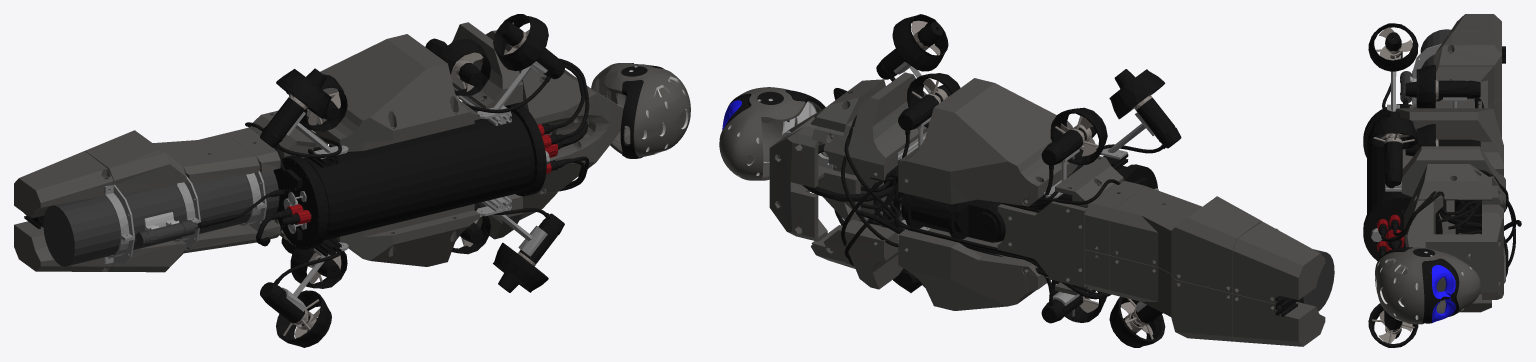
File: O2_body_new_head.obj
The picture shows the model from 3 angles, left to right: view 1: azimuth 30°, elevation 25°; view 2: azimuth 150°, elevation 25°; view 3: azimuth 270°, elevation 25°; orthographic projection. The views are drawn at different scales.
Parts seen in each view (by area): view 1: Robot_-_Prevco_Cylinder_Assembly_24-1_Prevco_Cylinder_24-1.002, Robot_-_Chassis-1_MirrorBody_foam_(mid-right-front-full-wit.002, Robot_-_Chassis-1_Battery_Asm-1_subCtech_Li_Ion_Battery-2.002, O2_head_O2_head.001, Robot_-_Chassis-1_Body_foam_(mid-right-front-full-with-btm).002, Robot_-_Chassis-1_MirrorTail_foam_(end-right)-3.002, Robot_-_Chassis-1_MirrorTail_foam_(mid-right)-2.002, Robot_-_Arm_frame-4_MirrorShoulder_foam_(top-right-mod)-2.002, Robot_-_Chassis-1_MirrorTail_foam_(front-right)-3.002, Robot_-_Prevco_Cylinder_Assembly_24-1_Prevco_Cylinder_Cap_B.021, Robot_-_Arm_frame-4_Shoulder_foam_(top-right-mod)-1.002, Robot_-_Chassis-1_MirrorBody_foam_(front-right-full)-2.002 (+23 smaller); view 2: Robot_-_Chassis-1_MirrorBody_foam_(mid-right-front-full-wit.002, Robot_-_Chassis-1_Body_foam_(mid-right-front-full-with-btm).002, O2_head_O2_head.001, Robot_-_Chassis-1_MirrorTail_foam_(end-right)-3.002, Robot_-_Chassis-1_MirrorBody_foam_(front-right-full)-2.002, Robot_-_Chassis-1_MirrorTail_foam_(mid-right)-2.002, Robot_-_Chassis-1_Body_foam_(bottom)-1.002, Robot_-_Arm_frame-4_Shoulder_foam_(bottom)-1.002, Robot_-_Chassis-1_MirrorTail_foam_(front-right)-3.002, Robot_-_Chassis-1_Tail_foam_(end-right)-2.002, Robot_-_Chassis-1_Body_foam_(front-right-full)-1.002, Robot_-_Chassis-1_Tail_foam_(mid-right)-1.002 (+26 smaller); view 3: O2_head_O2_head.001, Robot_-_Chassis-1_MirrorBody_foam_(mid-right-front-full-wit.002, Robot_-_Chassis-1_MirrorBody_foam_(front-right-full)-2.002, Robot_-_Chassis-1_MirrorTail_foam_(mid-right)-2.002, Robot_-_Arm_frame-4_MirrorShoulder_foam_(side-right)-2.002, Robot_-_Arm_frame-4_Shoulder_foam_(bottom)-1.002, Robot_-_Prevco_Cylinder_Assembly_24-1_Prevco_Cylinder_Cap_F.026, Robot_-_Arm_frame-4_MirrorShoulder_foam_(top-right-mod)-2.002, Robot_-_Prevco_Cylinder_Assembly_24-1_Prevco_Cylinder_24-1.002, Robot_-_Arm_frame-4_Shoulder_foam_(front)-1.002, Robot_-_Chassis-1_MirrorTail_foam_(front-right)-3.002, Robot_-_Model_560_Thruster,_1-Atmosphere,_Saddle_Mount,_Al_.295 (+31 smaller).
Part boxes in pixels (left/top/right/bottom): Robot_-_Prevco_Cylinder_Assembly_24-1_Prevco_Cylinder_24-1.002: left=292, top=104, right=539, bottom=246; Robot_-_Chassis-1_MirrorBody_foam_(mid-right-front-full-wit.002: left=306, top=34, right=479, bottom=151; Robot_-_Chassis-1_Battery_Asm-1_subCtech_Li_Ion_Battery-2.002: left=43, top=170, right=279, bottom=266; O2_head_O2_head.001: left=591, top=63, right=690, bottom=158; Robot_-_Chassis-1_Body_foam_(mid-right-front-full-with-btm).002: left=336, top=204, right=479, bottom=266; Robot_-_Chassis-1_MirrorTail_foam_(end-right)-3.002: left=14, top=151, right=113, bottom=218; Robot_-_Chassis-1_MirrorTail_foam_(mid-right)-2.002: left=85, top=130, right=186, bottom=193; Robot_-_Arm_frame-4_MirrorShoulder_foam_(top-right-mod)-2.002: left=518, top=72, right=623, bottom=135; Robot_-_Chassis-1_MirrorTail_foam_(front-right)-3.002: left=153, top=133, right=259, bottom=183; Robot_-_Prevco_Cylinder_Assembly_24-1_Prevco_Cylinder_Cap_B.021: left=273, top=156, right=325, bottom=249; Robot_-_Arm_frame-4_Shoulder_foam_(top-right-mod)-1.002: left=523, top=118, right=621, bottom=199; Robot_-_Chassis-1_MirrorBody_foam_(front-right-full)-2.002: left=451, top=22, right=522, bottom=108; Robot_-_Chassis-1_MirrorBody_foam_(mid-right-front-full-wit.002: left=898, top=78, right=1084, bottom=206; Robot_-_Chassis-1_Body_foam_(mid-right-front-full-with-btm).002: left=898, top=228, right=1051, bottom=310; O2_head_O2_head.001: left=719, top=87, right=825, bottom=180; Robot_-_Chassis-1_MirrorTail_foam_(end-right)-3.002: left=1232, top=221, right=1325, bottom=303; Robot_-_Chassis-1_MirrorBody_foam_(front-right-full)-2.002: left=811, top=72, right=927, bottom=180; Robot_-_Chassis-1_MirrorTail_foam_(mid-right)-2.002: left=1171, top=196, right=1261, bottom=293; Robot_-_Chassis-1_Body_foam_(bottom)-1.002: left=997, top=201, right=1087, bottom=287; Robot_-_Arm_frame-4_Shoulder_foam_(bottom)-1.002: left=769, top=126, right=827, bottom=241; Robot_-_Chassis-1_MirrorTail_foam_(front-right)-3.002: left=1109, top=186, right=1201, bottom=273; Robot_-_Chassis-1_Tail_foam_(end-right)-2.002: left=1232, top=293, right=1325, bottom=346; Robot_-_Chassis-1_Body_foam_(front-right-full)-1.002: left=811, top=204, right=903, bottom=289; Robot_-_Chassis-1_Tail_foam_(mid-right)-1.002: left=1171, top=274, right=1236, bottom=341; O2_head_O2_head.001: left=1375, top=247, right=1480, bottom=324; Robot_-_Chassis-1_MirrorBody_foam_(mid-right-front-full-wit.002: left=1395, top=108, right=1503, bottom=175; Robot_-_Chassis-1_MirrorBody_foam_(front-right-full)-2.002: left=1401, top=146, right=1505, bottom=210; Robot_-_Chassis-1_MirrorTail_foam_(mid-right)-2.002: left=1434, top=31, right=1501, bottom=102; Robot_-_Arm_frame-4_MirrorShoulder_foam_(side-right)-2.002: left=1417, top=164, right=1491, bottom=200; Robot_-_Arm_frame-4_Shoulder_foam_(bottom)-1.002: left=1482, top=204, right=1503, bottom=299; Robot_-_Prevco_Cylinder_Assembly_24-1_Prevco_Cylinder_Cap_F.026: left=1363, top=195, right=1442, bottom=261; Robot_-_Arm_frame-4_MirrorShoulder_foam_(top-right-mod)-2.002: left=1404, top=186, right=1443, bottom=249; Robot_-_Prevco_Cylinder_Assembly_24-1_Prevco_Cylinder_24-1.002: left=1363, top=106, right=1441, bottom=224; Robot_-_Arm_frame-4_Shoulder_foam_(front)-1.002: left=1433, top=234, right=1481, bottom=294; Robot_-_Chassis-1_MirrorTail_foam_(front-right)-3.002: left=1436, top=66, right=1493, bottom=108; Robot_-_Model_560_Thruster,_1-Atmosphere,_Saddle_Mount,_Al_.295: left=1368, top=117, right=1418, bottom=149.
Bounding box in the file's own units: 1.91 × 0.8057 × 0.5016.
